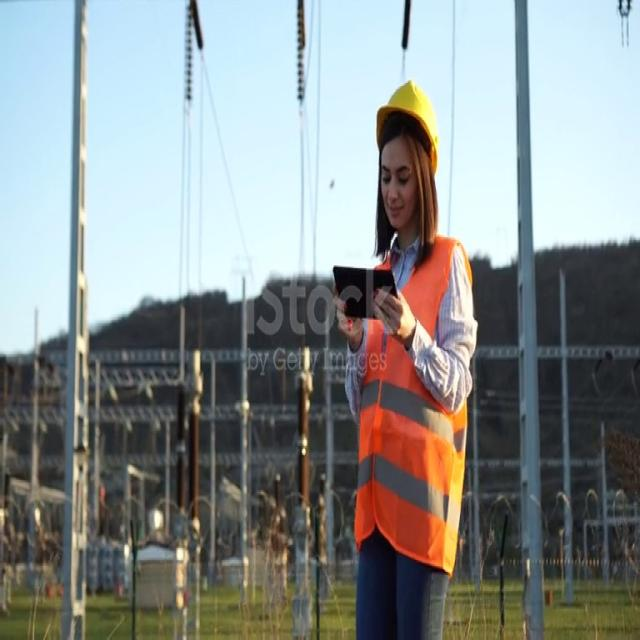capacete: (363, 64, 453, 194)
